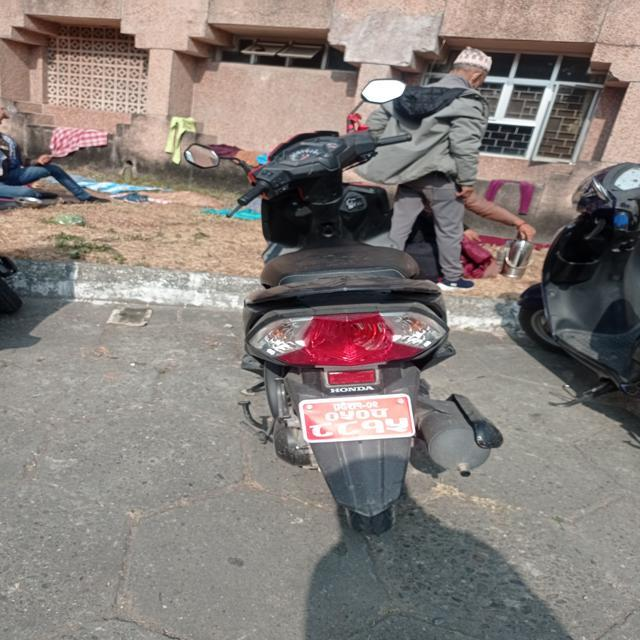license_plate: (280, 384, 444, 446)
